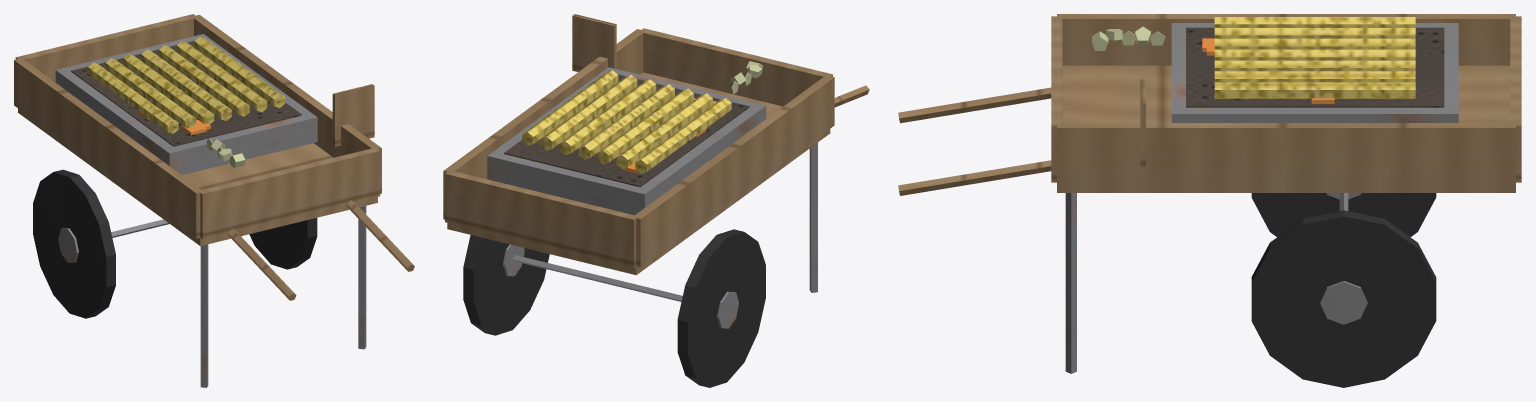
The model's file is corn-grill-cart.glb.
3 views of the same model, side by side, from view 1: azimuth 30°, elevation 25°; view 2: azimuth 150°, elevation 25°; view 3: azimuth 270°, elevation 25° (orthographic). The views are drawn at different scales.
Parts seen in each view (by area): view 1: corn_cart; view 2: corn_cart; view 3: corn_cart.
Boxes of the visible parts, x1,y1,x2,y2 form: corn_cart: (14, 14, 414, 387); corn_cart: (443, 14, 869, 387); corn_cart: (898, 14, 1521, 387).
Size of the model in its own units: 1.14 by 1.12 by 2.17.
Materials: 1 (1 with a texture image).
